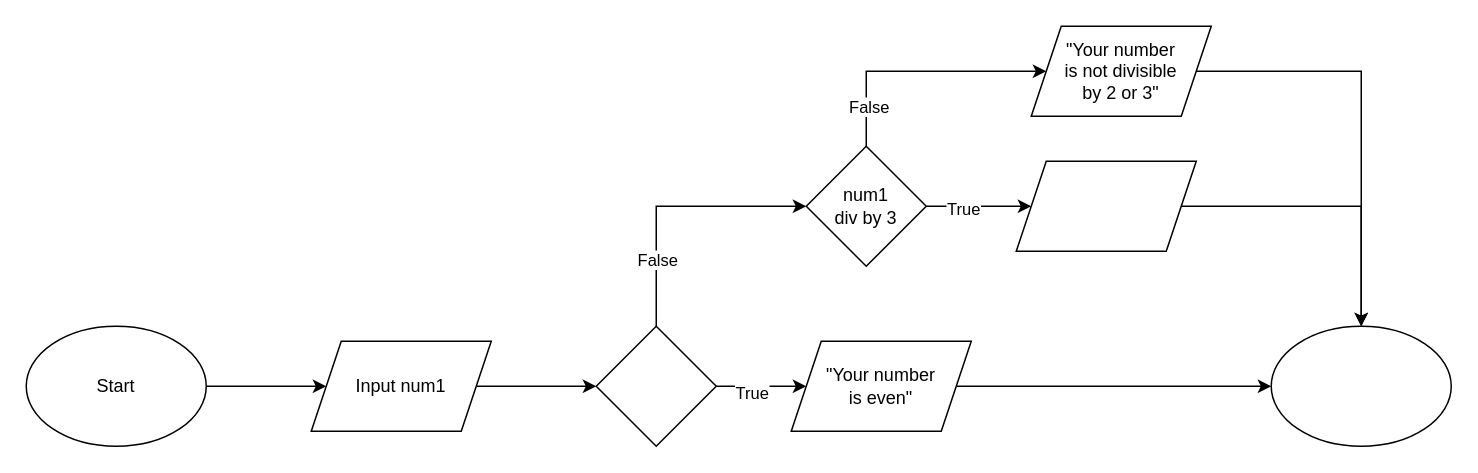
This 1478x473 diagram has some shape labels left out. Here are the shapes that lost their labels. From the top down, the box of each, then its label:
(1015, 160, 1196, 251): "Your number is div by 3"
(595, 325, 716, 446): num1 even
(1270, 325, 1451, 446): Stop
